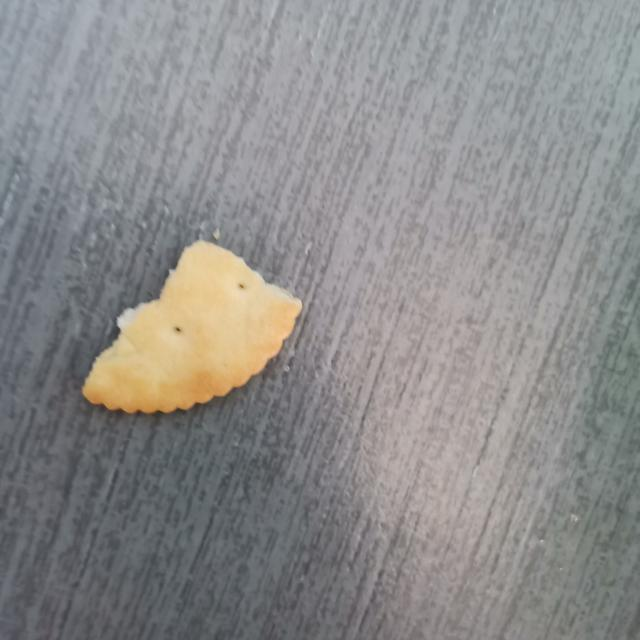Broken: (81, 238, 303, 415)
